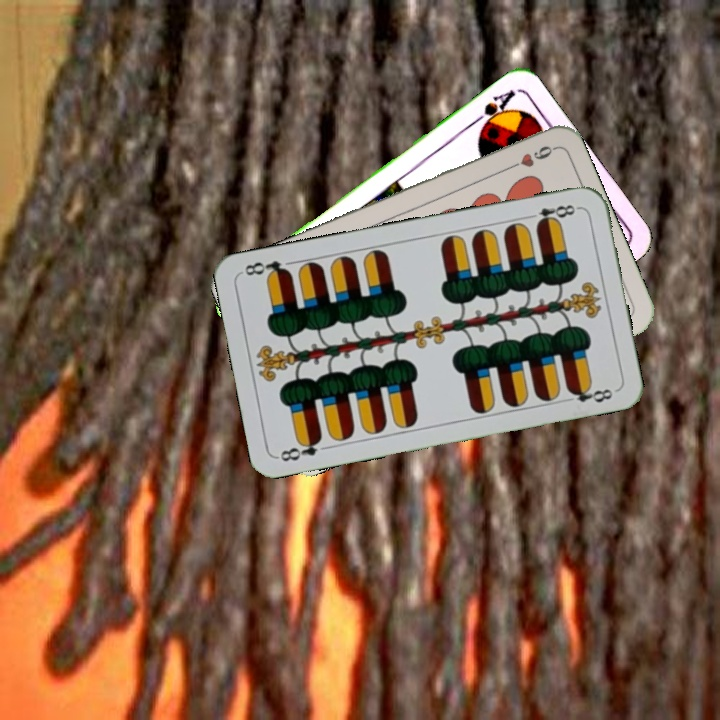E8: (523, 200, 582, 229), (274, 433, 325, 464)
H9: (502, 141, 558, 173)
SA: (467, 85, 519, 135)
